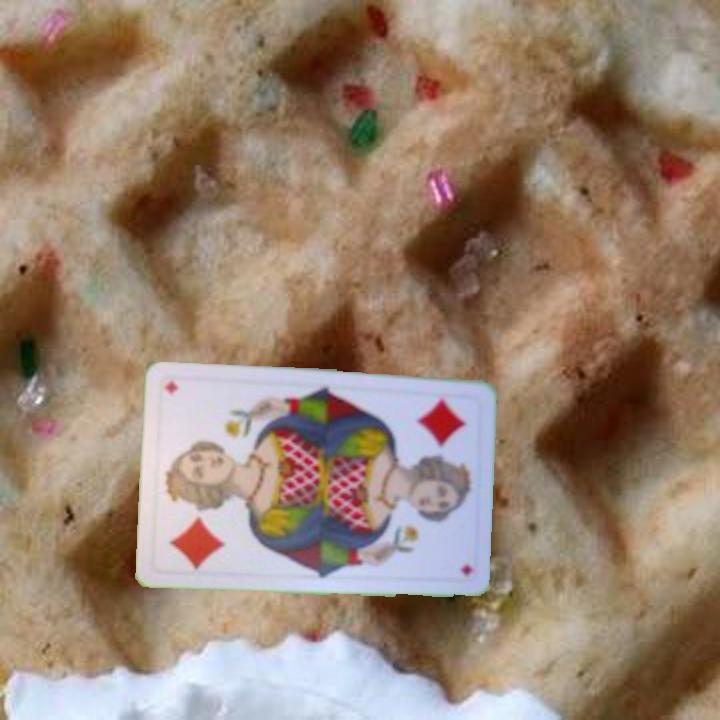d_q.png: (391, 388, 481, 491), (151, 472, 241, 575)
